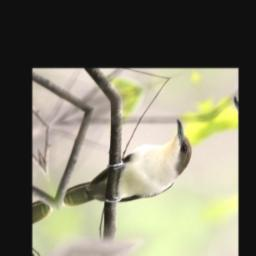Cuckoo: (50, 116, 202, 230)
